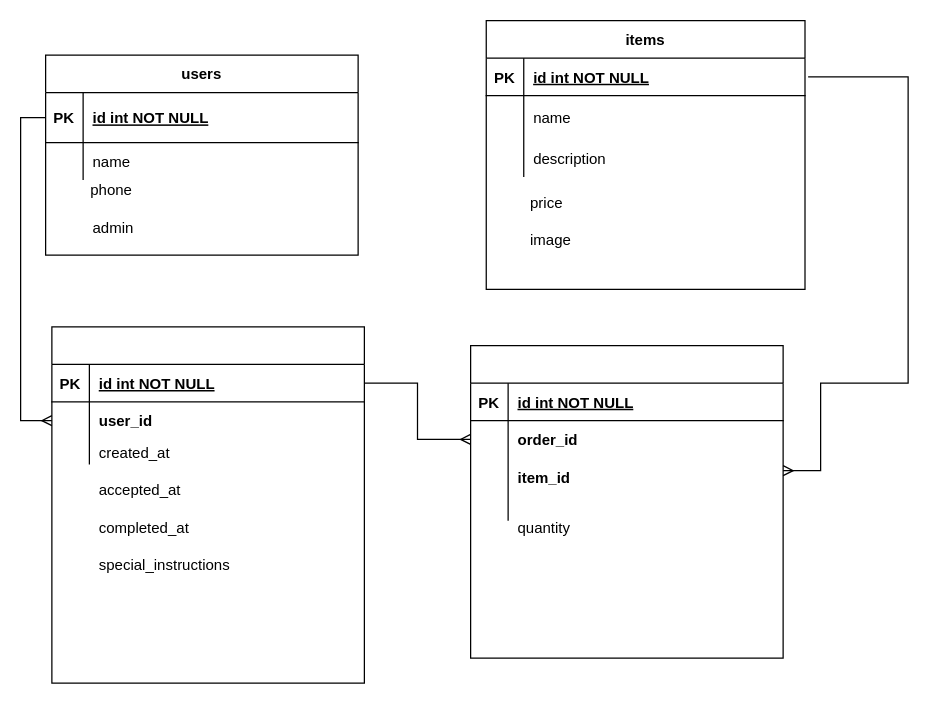
This 929x704 diagram has some shape labels left out. The box of each missing label's shape, as (x1, y1, x2, y2) in pixels:
order_items: (469, 344, 783, 658)
orders: (51, 326, 364, 683)
